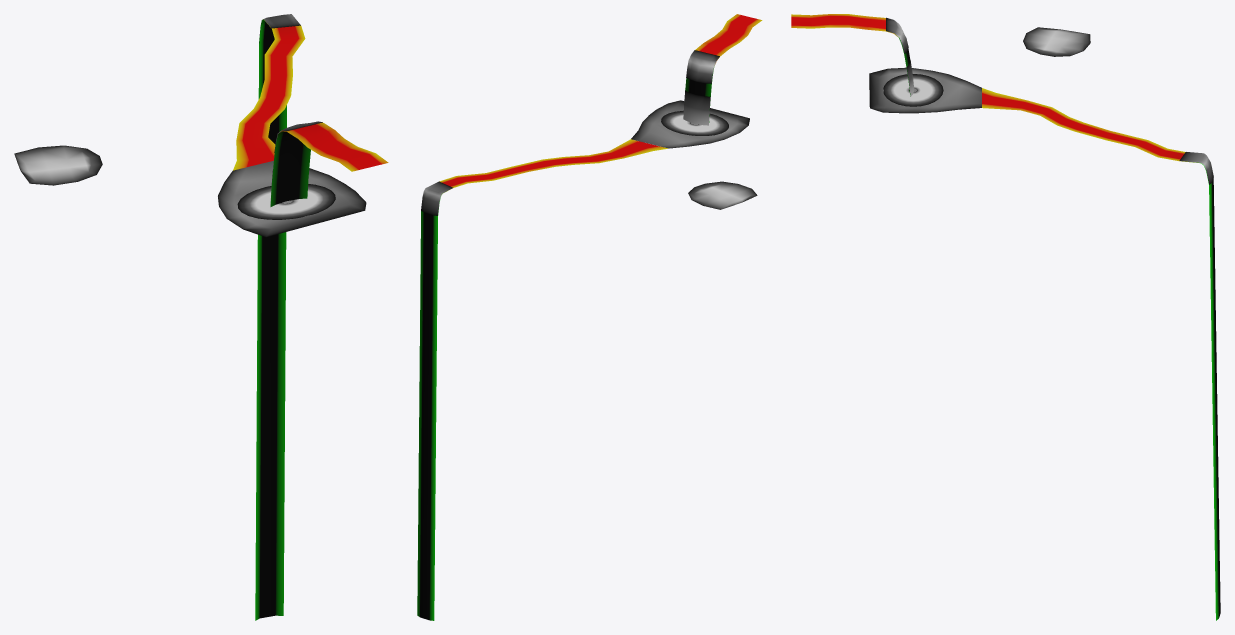
Rendered from M_Waterfall_Japan_01.fbx.
3 views of the same model, side by side, from view 1: azimuth 30°, elevation 25°; view 2: azimuth 150°, elevation 25°; view 3: azimuth 270°, elevation 25° (orthographic). The views are drawn at different scales.
Parts seen in each view (by area): view 1: M_WaterfallRiver_Japan_01, M_WaterfallBeam_Japan_01, M_WaterfallLake_Japan_01, M_WaterfallLake_Japan_02, M_WaterfallRipple_Japan_01; view 2: M_WaterfallRiver_Japan_01, M_WaterfallLake_Japan_01, M_WaterfallBeam_Japan_01, M_WaterfallLake_Japan_02, M_WaterfallRipple_Japan_01, M_WaterfallEdge_Japan_01, M_WaterfallEnd_Japan_01, M_WaterfallEdge_Japan_02; view 3: M_WaterfallRiver_Japan_01, M_WaterfallLake_Japan_01, M_WaterfallLake_Japan_02, M_WaterfallRipple_Japan_01, M_WaterfallBeam_Japan_01.
Part boxes in pixels (x1=…): M_WaterfallRiver_Japan_01: x1=233, y1=19, x2=305, y2=620; M_WaterfallBeam_Japan_01: x1=270, y1=122, x2=388, y2=206; M_WaterfallLake_Japan_01: x1=218, y1=160, x2=366, y2=237; M_WaterfallLake_Japan_02: x1=14, y1=145, x2=102, y2=185; M_WaterfallRipple_Japan_01: x1=237, y1=184, x2=335, y2=219; M_WaterfallRiver_Japan_01: x1=417, y1=139, x2=667, y2=620; M_WaterfallLake_Japan_01: x1=631, y1=100, x2=749, y2=148; M_WaterfallBeam_Japan_01: x1=685, y1=14, x2=762, y2=122; M_WaterfallLake_Japan_02: x1=688, y1=181, x2=757, y2=209; M_WaterfallRipple_Japan_01: x1=661, y1=111, x2=728, y2=135; M_WaterfallEdge_Japan_01: x1=686, y1=50, x2=719, y2=83; M_WaterfallEnd_Japan_01: x1=683, y1=90, x2=710, y2=125; M_WaterfallEdge_Japan_02: x1=421, y1=181, x2=452, y2=215; M_WaterfallRiver_Japan_01: x1=982, y1=88, x2=1220, y2=620; M_WaterfallLake_Japan_01: x1=869, y1=67, x2=981, y2=113; M_WaterfallLake_Japan_02: x1=1023, y1=27, x2=1090, y2=56; M_WaterfallRipple_Japan_01: x1=883, y1=74, x2=943, y2=106; M_WaterfallBeam_Japan_01: x1=791, y1=14, x2=910, y2=96.
Size of the model in its own units: 28.85 by 52.1 by 38.4.
